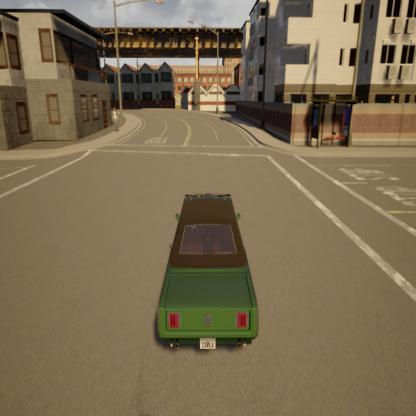Cars: (158, 192, 259, 352)
Pedestrian: (111, 104, 119, 132)
